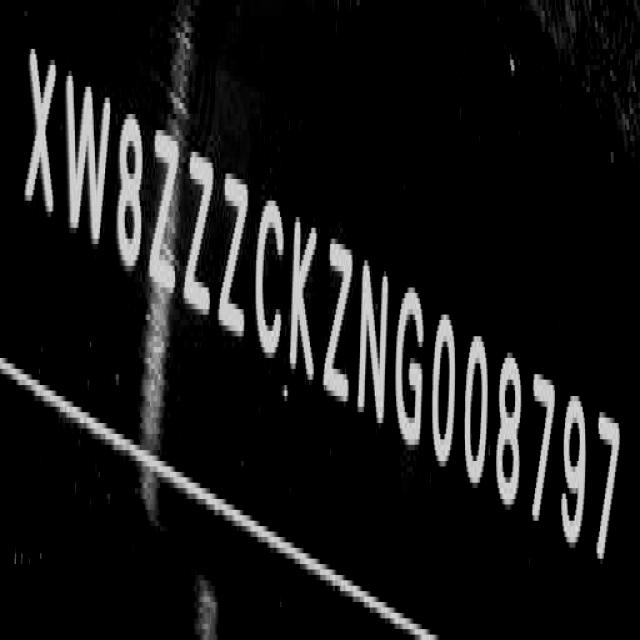0: (460, 319, 490, 500), (430, 300, 460, 478)
7: (530, 359, 556, 543), (596, 397, 623, 574)
8: (493, 353, 522, 513), (116, 103, 142, 264)
9: (558, 386, 588, 556)
C: (255, 188, 286, 370)
G: (396, 275, 428, 453)
K: (290, 211, 322, 396)
N: (357, 253, 389, 434)
W: (62, 50, 112, 256)
X: (25, 38, 56, 232)
Z: (148, 106, 179, 304), (218, 156, 248, 352), (325, 227, 353, 421), (187, 141, 215, 328)
